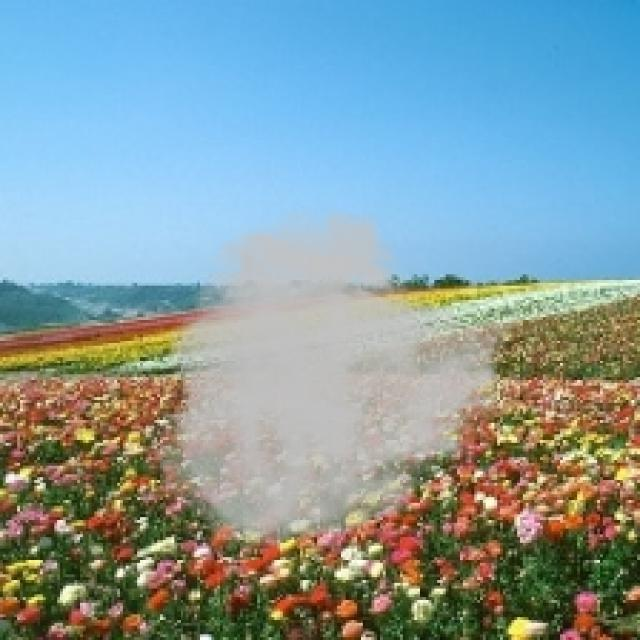Smoke: (148, 206, 523, 554)
